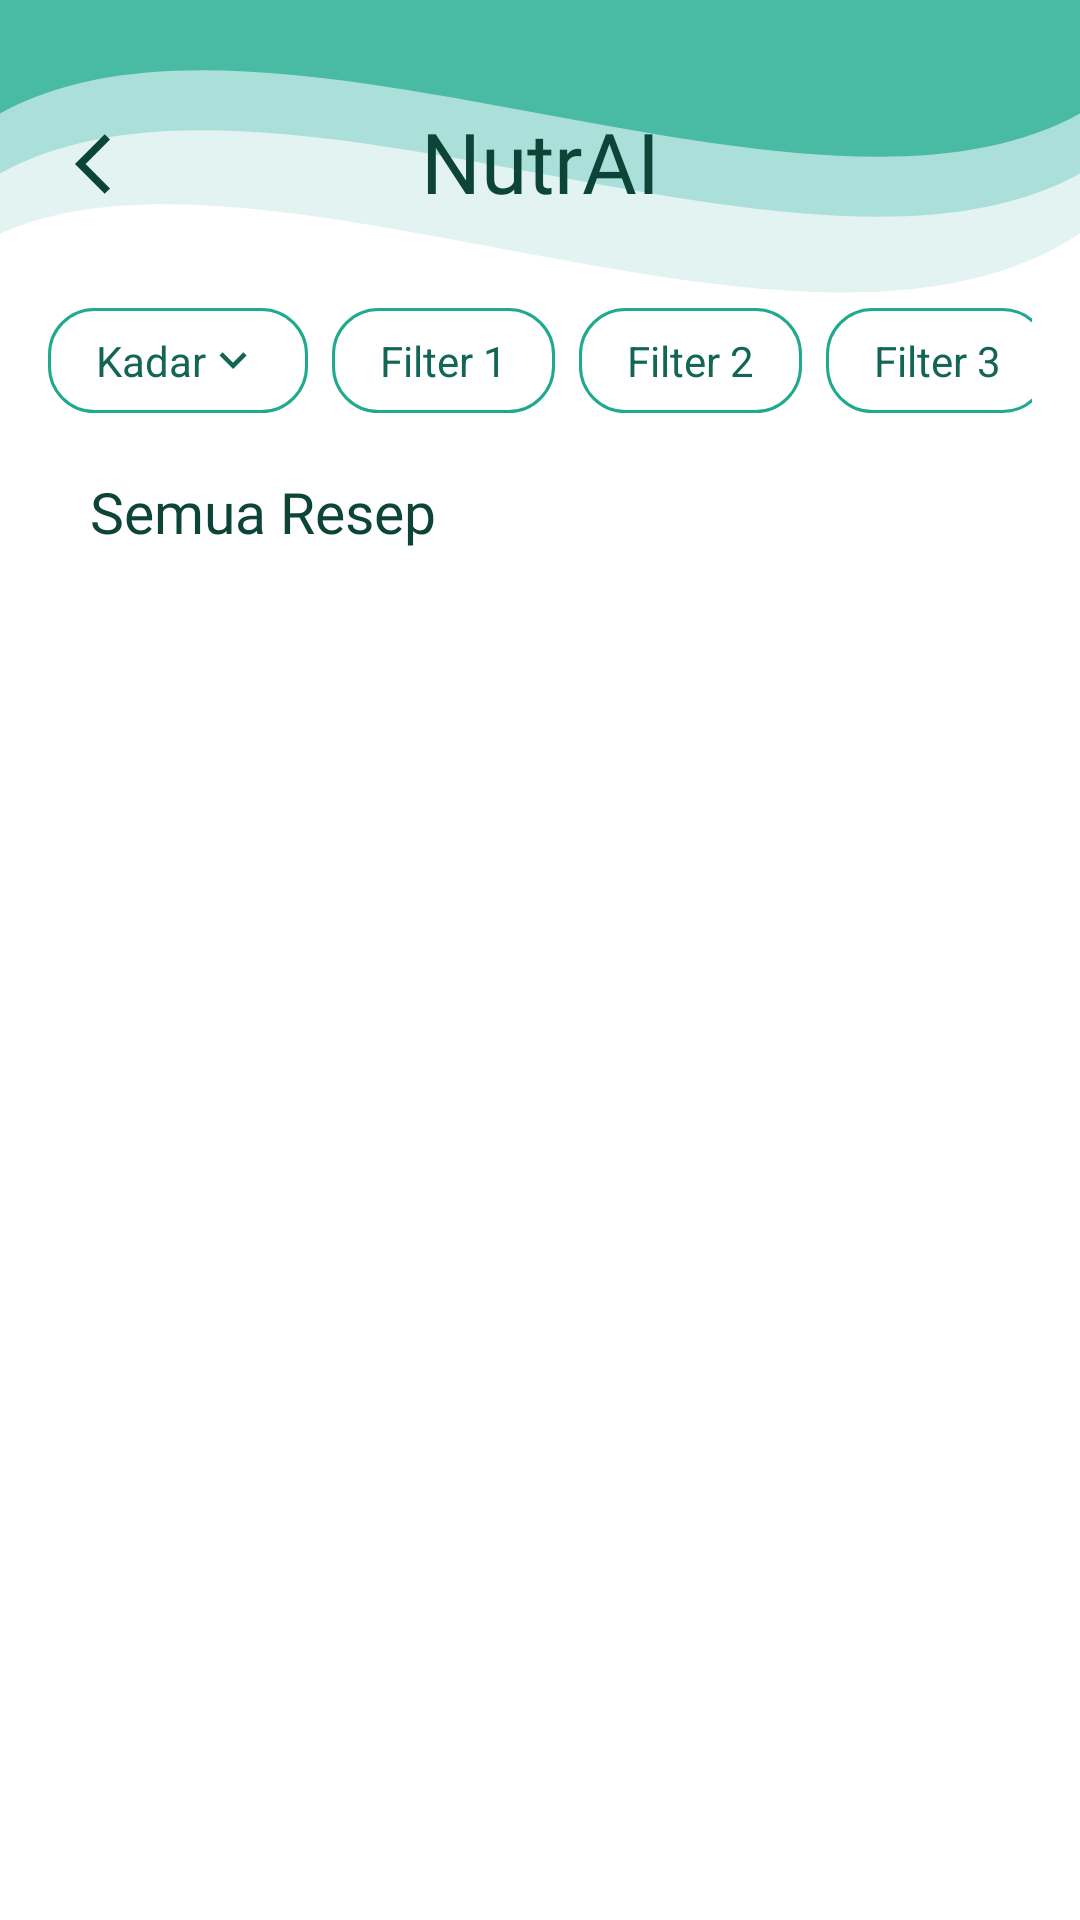

Icon bounding boxes for this 1080x1920 phone screenshot, format box(x1, y1, x2, y2):
arrow back: box(75, 128, 147, 194)
